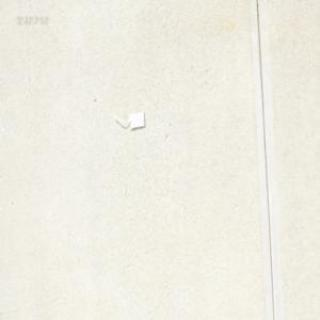LuggageTagtrack_idkeyframe: (112, 110, 145, 128)
